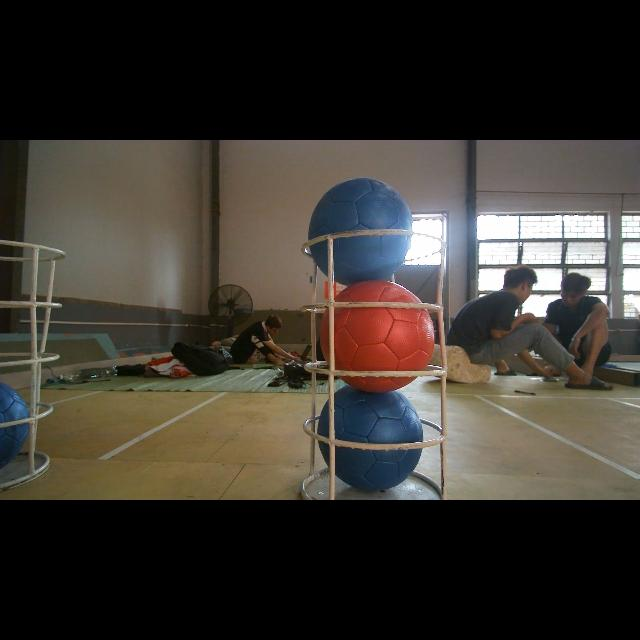B: (320, 383, 424, 493), (309, 178, 407, 286)
R: (317, 276, 431, 389), (0, 386, 22, 486)
